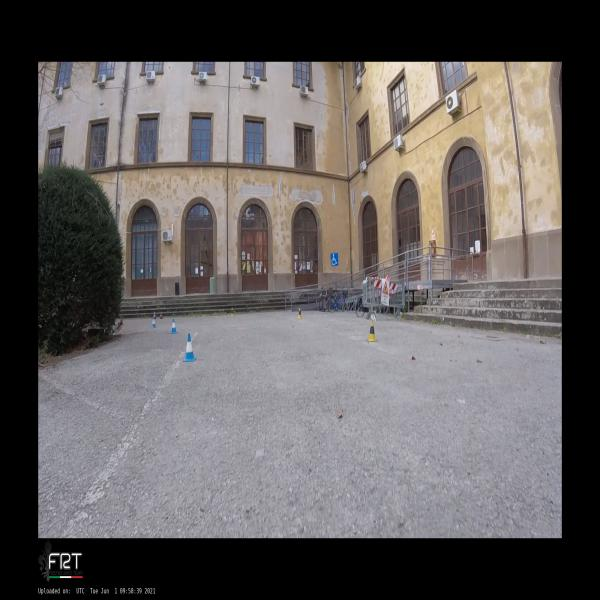blue_cone: (183, 333, 196, 362), (170, 318, 178, 334), (151, 316, 157, 328)
unknown_cone: (120, 316, 124, 325), (159, 311, 163, 320), (153, 311, 157, 320)
yellow_cone: (368, 320, 378, 342), (297, 308, 303, 320), (230, 307, 234, 317)
